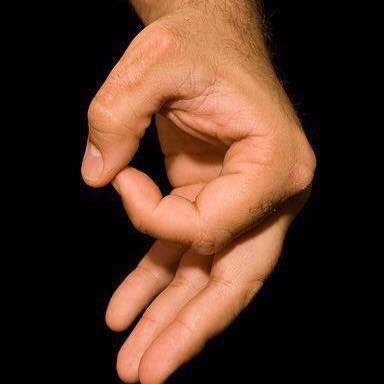oksign: (80, 18, 315, 380)
